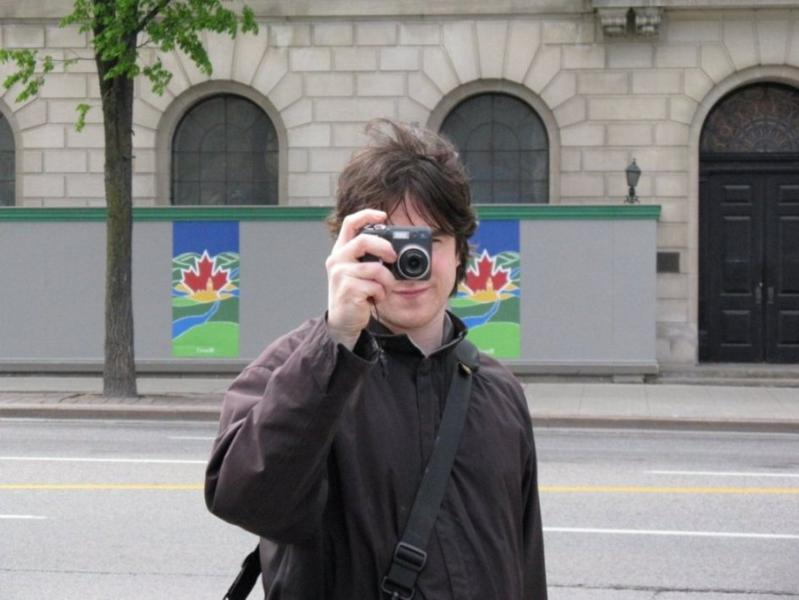person: (206, 129, 550, 599)
